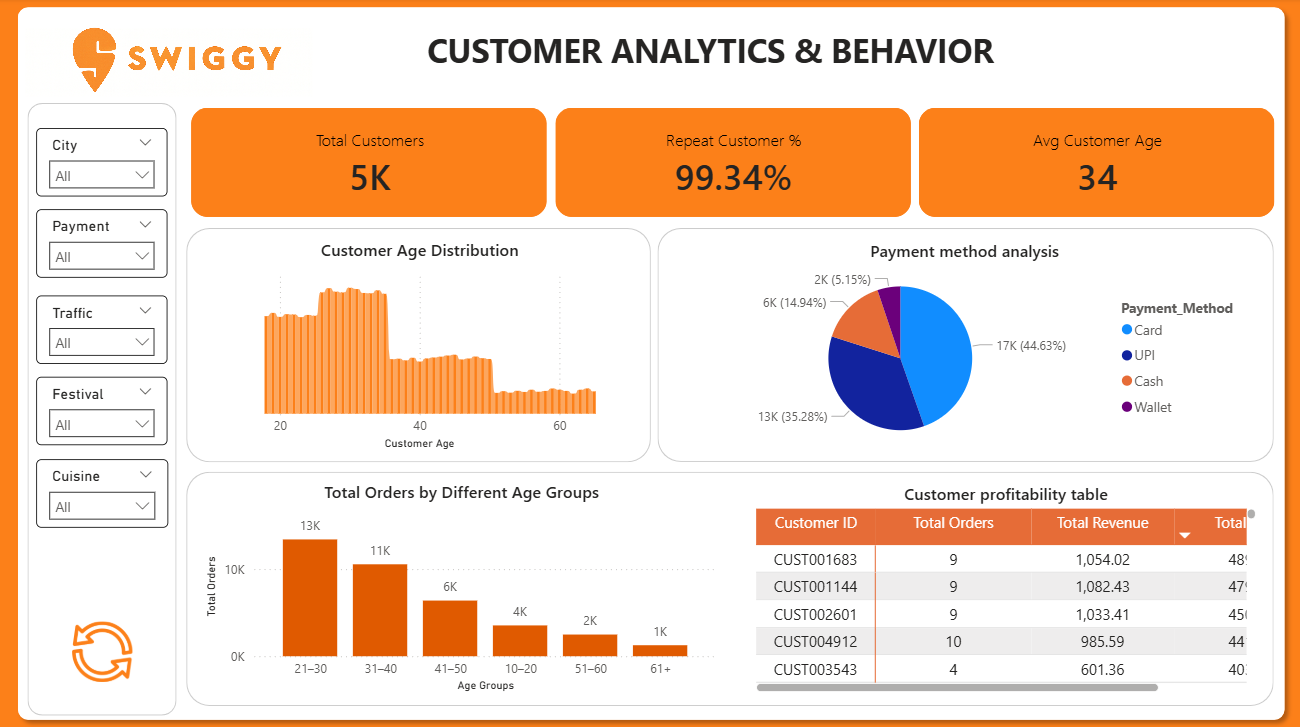

The dashboard page shown, as its layout file describes it:
{"tool":"powerbi","page":{"name":"Customer Analytics & Behavior","canvas":[1280,720],"ordinal":2},"visuals":[{"type":"shape","box":[8.8,0,1261.2,717.5],"z":0},{"type":"shape","box":[27.5,102.5,146.2,601.2],"z":0,"group":"g4"},{"type":"image","box":[19.6,24.5,292,77.3],"z":1000},{"type":"slicer","fields":{"Values":["swiggy_cleaned_data.City"]},"box":[36.3,127.5,129,67.5],"z":1000,"group":"g4"},{"type":"textbox","box":[311.2,25,771.2,63.8],"z":2000},{"type":"slicer","fields":{"Values":["swiggy_cleaned_data.Payment_Method"]},"box":[36.3,206.3,129,67.5],"z":2000,"group":"g4"},{"type":"group","id":"g1","title":"Avg time by weather","box":[182.5,226.2,457.5,230],"z":3000},{"type":"slicer","fields":{"Values":["swiggy_cleaned_data.Road_traffic_density"]},"box":[36.3,291.3,129,67.5],"z":3000,"group":"g4"},{"type":"shape","box":[182.5,465,1067.5,230],"z":3000,"group":"g3"},{"type":"shape","box":[182.5,226.2,456.1,230],"z":4000,"group":"g1"},{"type":"group","id":"g2","title":"Avg time by traffic","box":[645,226.2,605,229.7],"z":4000},{"type":"shape","box":[645,226.2,605,229.7],"z":4000,"group":"g2"},{"type":"slicer","fields":{"Values":["swiggy_cleaned_data.Festival"]},"box":[36.3,371.3,129,67.5],"z":4000,"group":"g4"},{"type":"cardVisual","fields":{"Data":["swiggy_cleaned_data.Total Customers","swiggy_cleaned_data.Repeat Customer %","swiggy_cleaned_data.average_customer_age"]},"box":[182.5,102.5,1075,117.5],"z":5000},{"type":"image","box":[36.3,606.3,130,68.8],"z":5000,"group":"g4"},{"type":"ribbonChart","title":"Customer Age Distribution","fields":{"Category":["swiggy_cleaned_data.Customer_Age"],"Y":["swiggy_cleaned_data.distinct_customers"]},"box":[194.1,235.9,436.6,212.5],"z":6000,"group":"g1"},{"type":"pieChart","title":"Payment method analysis","fields":{"Category":["swiggy_cleaned_data.Payment_Method"],"Y":["swiggy_cleaned_data.total_orders"]},"box":[662.5,236.2,568.8,212.5],"z":6000},{"type":"slicer","fields":{"Values":["swiggy_cleaned_data.Cuisine"]},"box":[36.7,452,129.3,67.3],"z":6000,"group":"g4"},{"type":"group","id":"g3","title":"last tow","box":[182.5,465,1067.5,230],"z":7000},{"type":"group","id":"g4","title":"Slicers","box":[27.5,102.5,146.2,601.2],"z":8000},{"type":"pivotTable","title":"Customer profitability table","fields":{"Rows":["swiggy_cleaned_data.Customer_ID"],"Values":["swiggy_cleaned_data.total_orders","swiggy_cleaned_data.total_revenue","swiggy_cleaned_data.total_profit"]},"box":[737.1,474.3,500.2,211.8],"z":8000,"group":"g3"},{"type":"columnChart","title":"Total Orders by Different Age Groups","fields":{"Y":["swiggy_cleaned_data.total_orders"],"Category":["swiggy_cleaned_data.Age_Groups"]},"box":[197.8,473.8,511.4,212.5],"z":9000,"group":"g3"}]}

Visuals, with their boxes in screenshot pixels (x1, y1, x2, y2), scaled from the page's 1280x720 canvas onto the 1300x727 screenshot:
shape: <box>9,0,1290,724</box>
shape: <box>28,103,176,711</box>
image: <box>20,25,316,103</box>
slicer - swiggy_cleaned_data.City: <box>37,129,168,197</box>
textbox: <box>316,25,1099,90</box>
slicer - swiggy_cleaned_data.Payment_Method: <box>37,208,168,276</box>
"Avg time by weather" group: <box>185,228,650,461</box>
slicer - swiggy_cleaned_data.Road_traffic_density: <box>37,294,168,362</box>
shape: <box>185,470,1270,702</box>
shape: <box>185,228,649,461</box>
"Avg time by traffic" group: <box>655,228,1270,460</box>
shape: <box>655,228,1270,460</box>
slicer - swiggy_cleaned_data.Festival: <box>37,375,168,443</box>
cardVisual - swiggy_cleaned_data.Total Customers x swiggy_cleaned_data.Repeat Customer %: <box>185,103,1277,222</box>
image: <box>37,612,169,682</box>
"Customer Age Distribution" ribbonChart: <box>197,238,641,453</box>
"Payment method analysis" pieChart: <box>673,238,1251,453</box>
slicer - swiggy_cleaned_data.Cuisine: <box>37,456,169,524</box>
"last tow" group: <box>185,470,1270,702</box>
"Slicers" group: <box>28,103,176,711</box>
"Customer profitability table" pivotTable: <box>749,479,1257,693</box>
"Total Orders by Different Age Groups" columnChart: <box>201,478,720,693</box>
